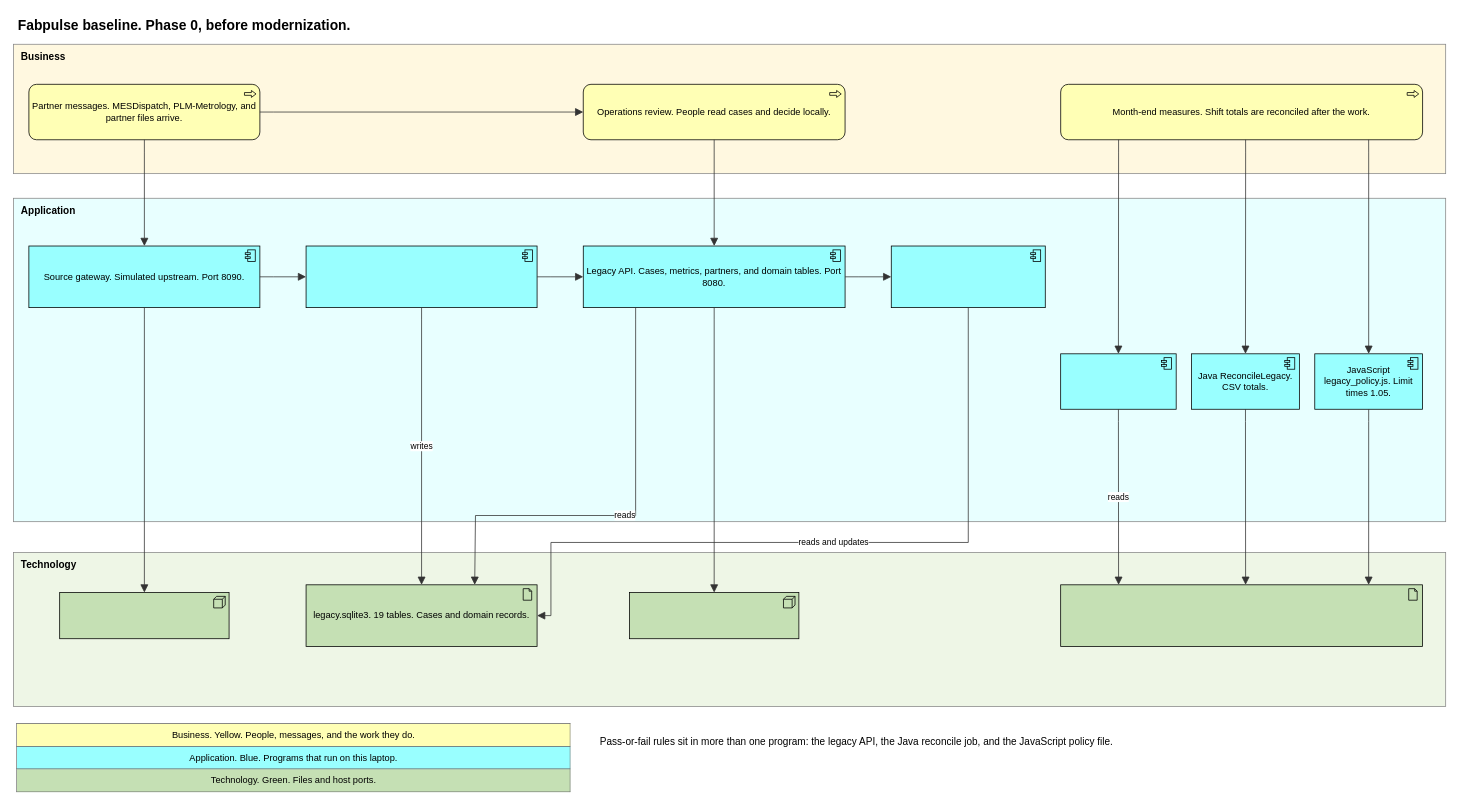
The diagram is 1459 pixels wide and 805 high, and some of its shapes have lost their labels. The centre of each missing label's shape, as x and y in pixels:
Bridge. Copies records once, then stops. No host port.: the point at 421,276
enterprise_legacy.sqlite3. 12 tables. Night batch and reports.: the point at 1241,615
Host port 8080: the point at 714,615
Host port 8090: the point at 144,615
Night batch. shift_reconciliation.py.: the point at 1118,381
Partner reconcile. Staging that changes feed status.: the point at 968,276
